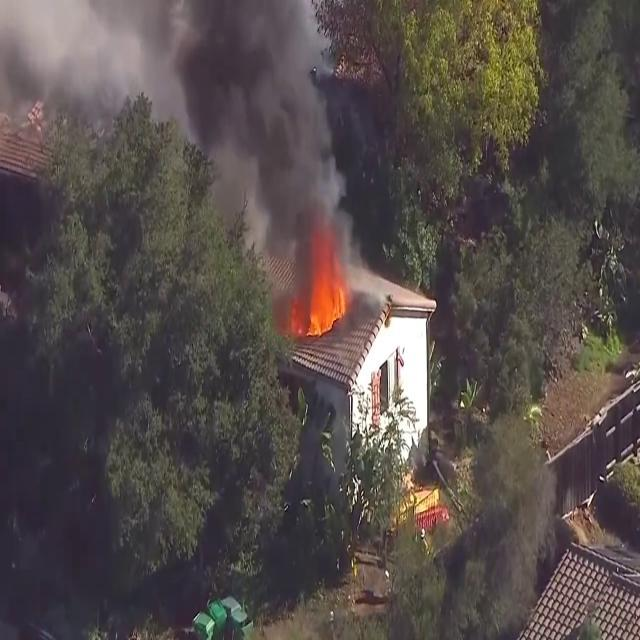Fire: (304, 268, 352, 338)
Smoke: (167, 0, 357, 295)
